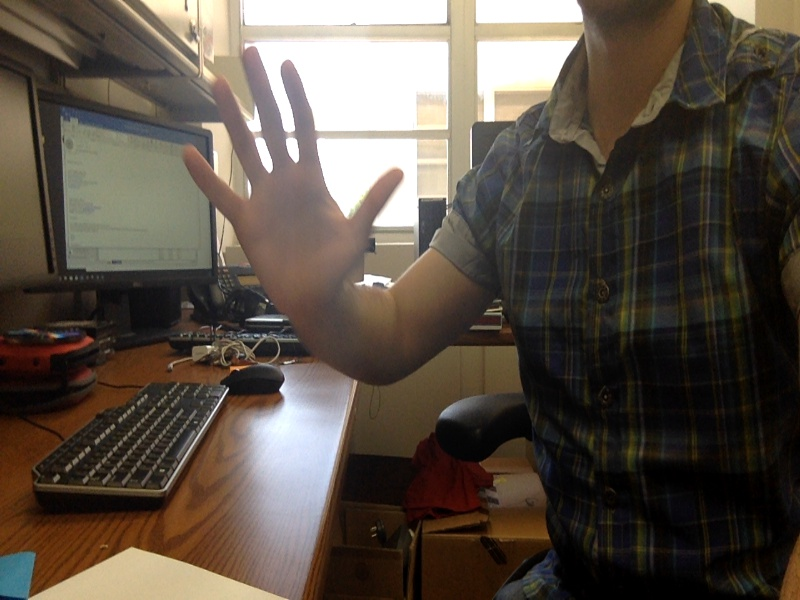5-hand: (183, 45, 402, 328)
